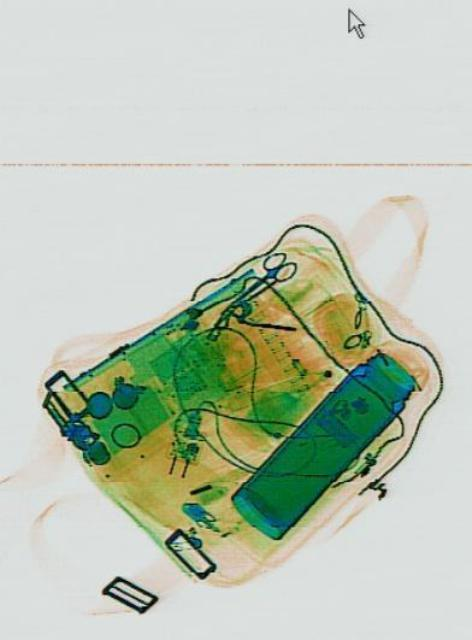Scissors: (227, 239, 297, 313)
